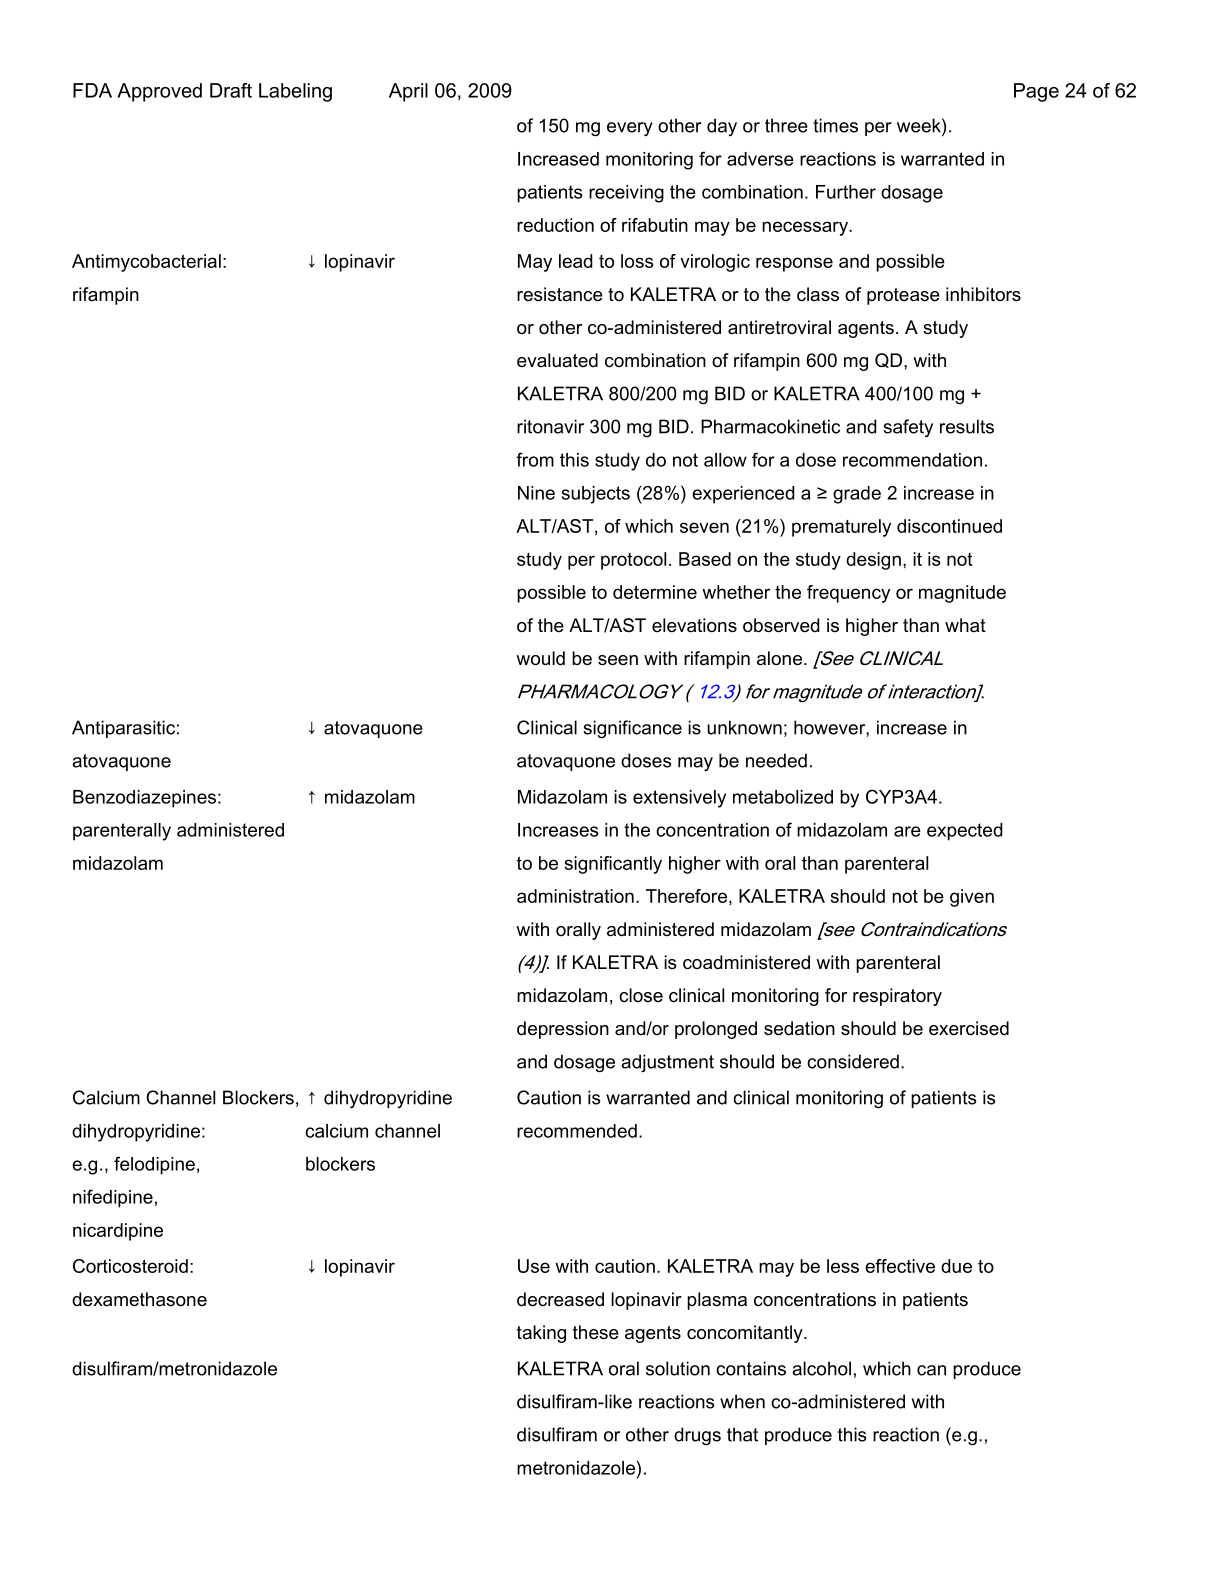nolines: (67, 116, 1021, 1477)
